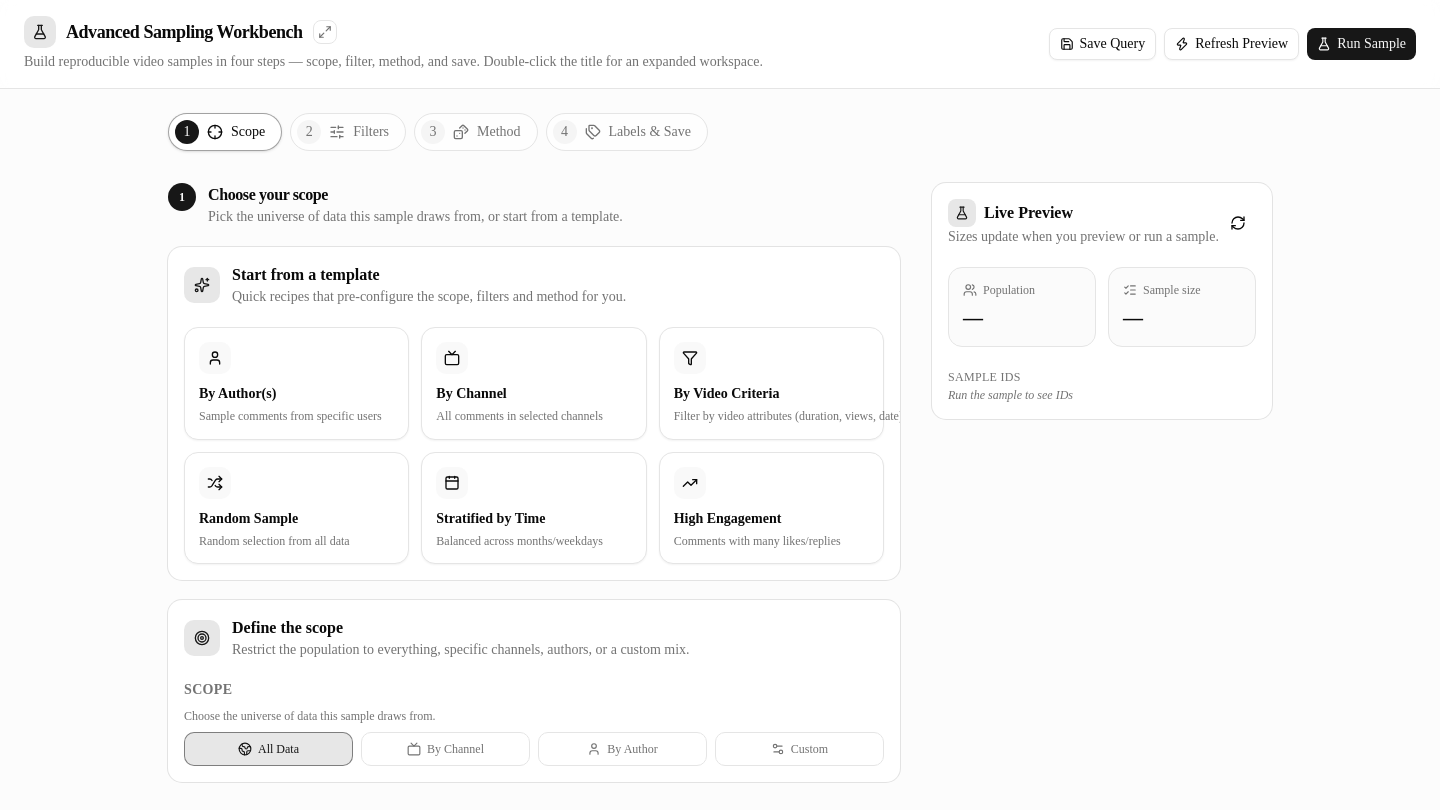
Test: sampling: expanded workspace dialog › opens a larger sampling workspace on double-click of the title
Expected: the text "Expanded video sampling workspace" is not shown
Double-click the heading "Advanced Sampling Workbench" at (180, 32), box [24,16,337,48]
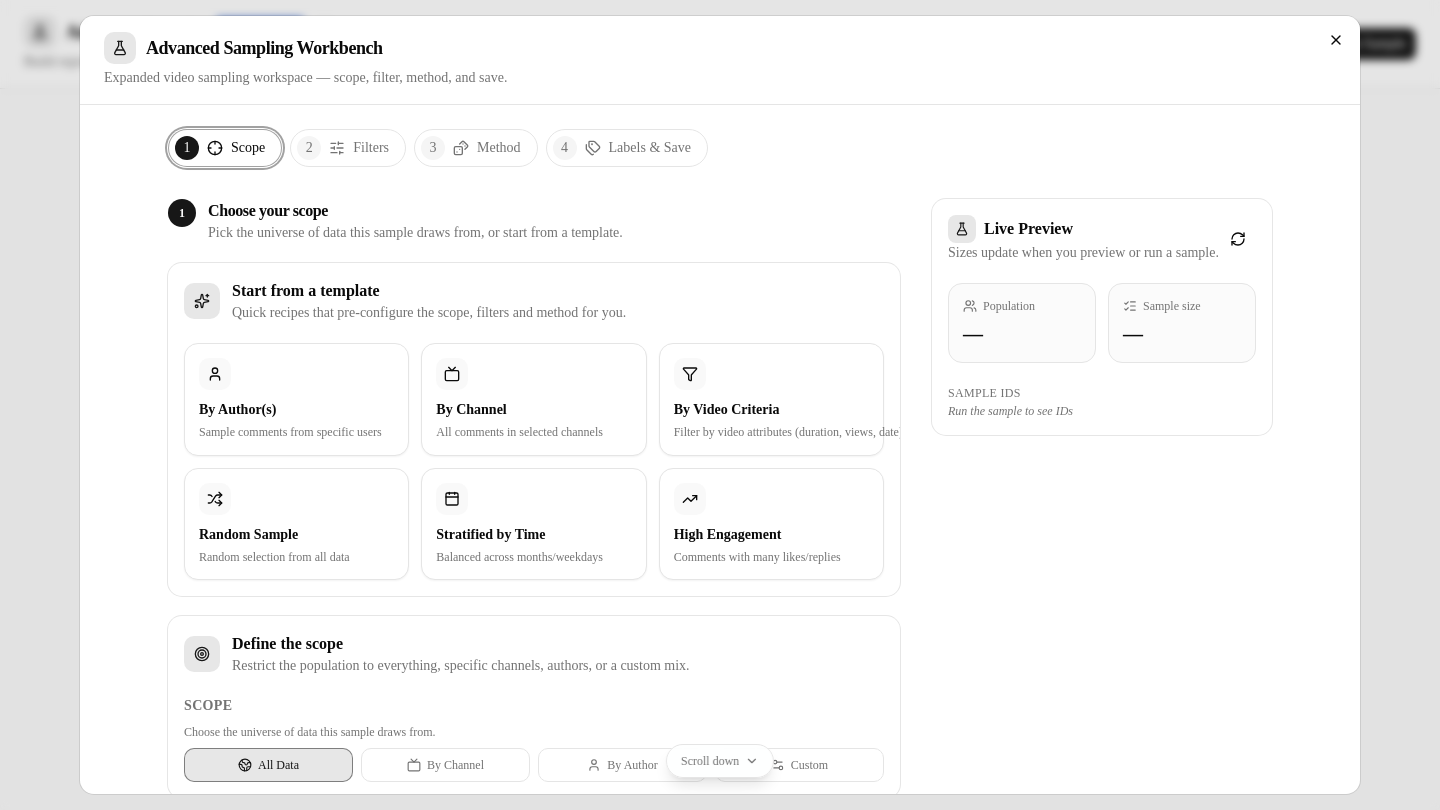
Now the text "Expanded video sampling workspace" is shown, box [104,70,507,85]
